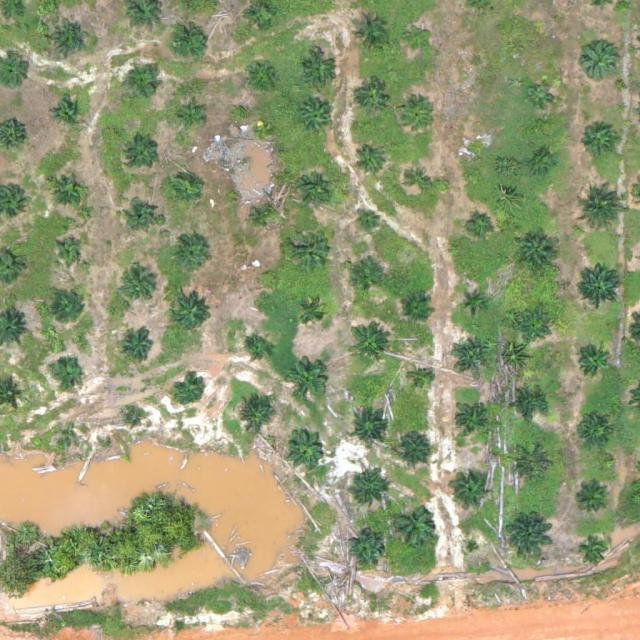Grass: (533, 153, 556, 177)
Small: (167, 19, 214, 67), (389, 503, 436, 551), (576, 187, 623, 234), (577, 259, 624, 306), (289, 223, 336, 270), (506, 512, 553, 559), (284, 428, 324, 468), (349, 323, 388, 363), (287, 360, 326, 400), (579, 40, 619, 79), (516, 233, 555, 273), (580, 119, 619, 159), (300, 51, 340, 90), (50, 20, 90, 59), (49, 169, 88, 209), (347, 471, 387, 510), (236, 394, 275, 434), (451, 335, 490, 374), (172, 291, 211, 330), (121, 268, 160, 307), (296, 171, 335, 210), (351, 16, 390, 55), (299, 101, 338, 140), (170, 235, 209, 274), (452, 472, 491, 511), (352, 410, 391, 449), (347, 532, 386, 571), (394, 427, 433, 466), (514, 446, 553, 485), (518, 313, 549, 345), (577, 345, 608, 377), (51, 354, 82, 386), (54, 292, 85, 324), (52, 97, 83, 129), (580, 416, 611, 448), (515, 390, 546, 421), (123, 333, 154, 364), (174, 375, 205, 406), (128, 198, 159, 229), (130, 70, 161, 101), (127, 138, 158, 169), (246, 59, 277, 90), (359, 81, 390, 112), (403, 101, 434, 132), (348, 265, 379, 296), (169, 173, 200, 204), (576, 485, 607, 516), (455, 404, 486, 435), (580, 536, 611, 567), (402, 295, 433, 326), (296, 300, 327, 331), (243, 336, 274, 367), (248, 200, 279, 231), (356, 146, 387, 177), (178, 104, 202, 128), (412, 370, 436, 394), (357, 209, 381, 233), (405, 29, 429, 53), (467, 143, 491, 167), (408, 169, 432, 193), (461, 292, 484, 316), (470, 214, 494, 237), (58, 240, 81, 264), (529, 83, 552, 106), (67, 429, 83, 445), (127, 408, 142, 423), (254, 122, 269, 137), (258, 269, 273, 284)
